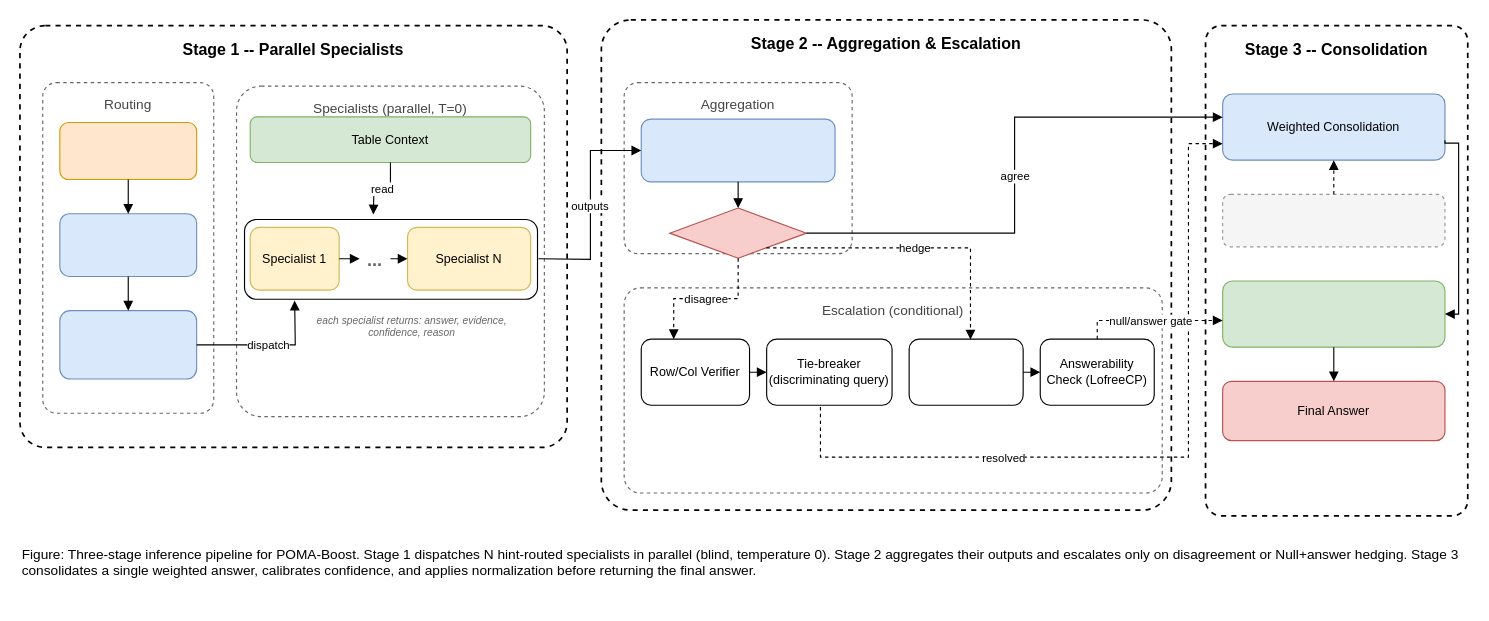
Image size: 1489x621. Some labels were removed from this diagram. The centre of each missing label's shape, as x and y in pixels:
"Aggregator" goes at (x=737, y=150).
"Answer Normalization" goes at (x=1333, y=313).
"Confidence Calibration" goes at (x=1333, y=220).
"Correctness Check (COMPETE)" goes at (x=965, y=371).
"Disagree?" goes at (x=738, y=232).
"Hint Prediction" goes at (x=128, y=244).
"Question" goes at (x=128, y=150).
"Router (1:1 lookup)" goes at (x=128, y=344).
